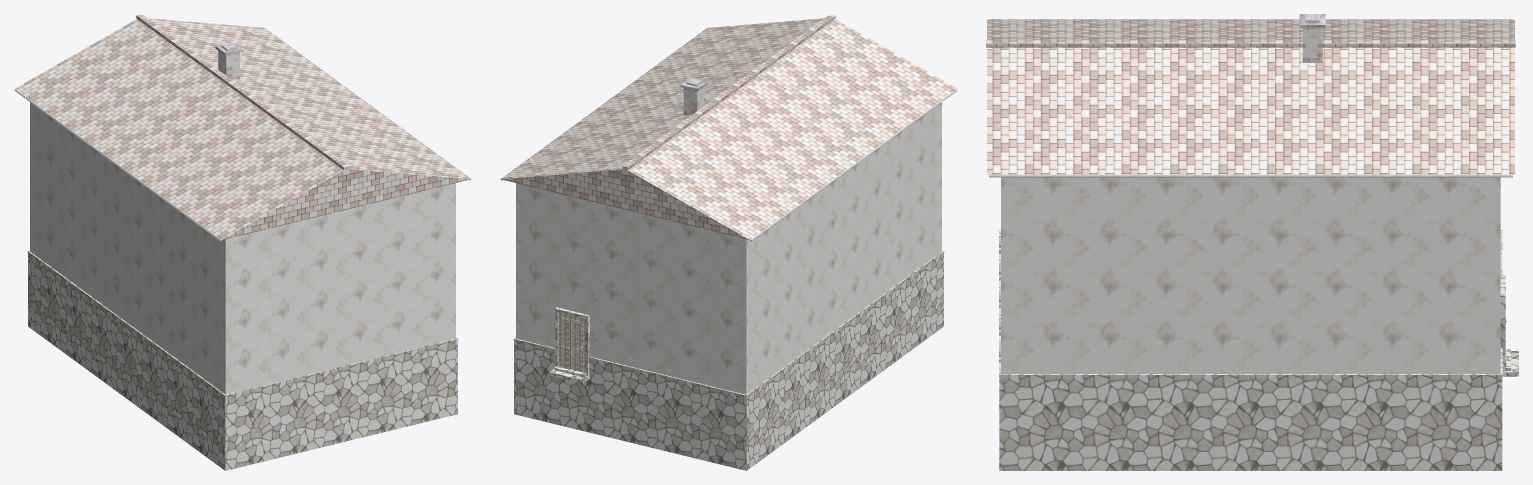
3 renders of one model, left to right at view 1: azimuth 30°, elevation 25°; view 2: azimuth 150°, elevation 25°; view 3: azimuth 270°, elevation 25°, orthographic. The views are drawn at different scales.
Visible parts, largest first — view 1: b1086637704; view 2: b1086637704; view 3: b1086637704.
Part boxes in pixels (bbox=[...]): b1086637704: bbox=[14, 14, 471, 470]; b1086637704: bbox=[500, 14, 957, 470]; b1086637704: bbox=[986, 14, 1518, 470].
Size of the model in its own units: 9.18 by 10.6 by 13.2.
Materials: 14 (14 with a texture image).
